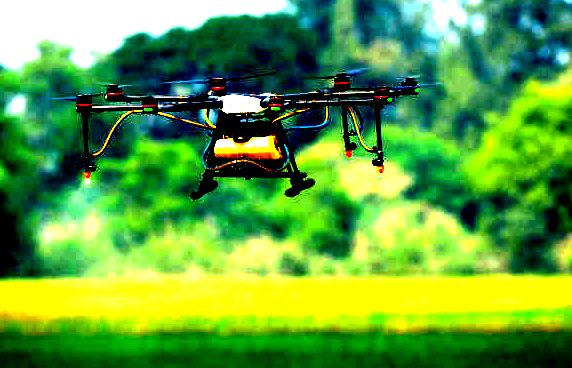Drone: (44, 63, 445, 205)
